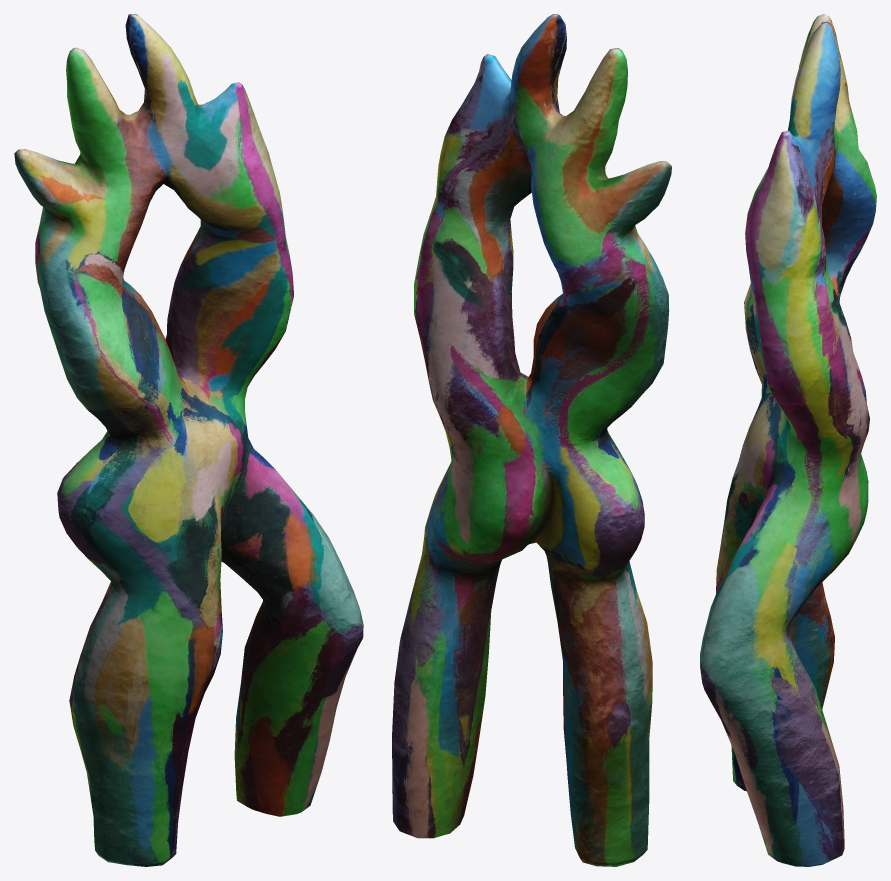
3 renders of one model, left to right at view 1: azimuth 30°, elevation 25°; view 2: azimuth 150°, elevation 25°; view 3: azimuth 270°, elevation 25°, orthographic. The views are drawn at different scales.
Parts seen in each view (by area): view 1: SM_Untitled2025_low1; view 2: SM_Untitled2025_low1; view 3: SM_Untitled2025_low1.
Part boxes in pixels (box(x1,y1,x2,y2)): SM_Untitled2025_low1: box(14, 14, 363, 866); SM_Untitled2025_low1: box(392, 14, 671, 866); SM_Untitled2025_low1: box(700, 14, 876, 866).
Size of the model in its own units: 1.44 by 3.86 by 0.8025.
Materials: 1 (1 with a texture image).
